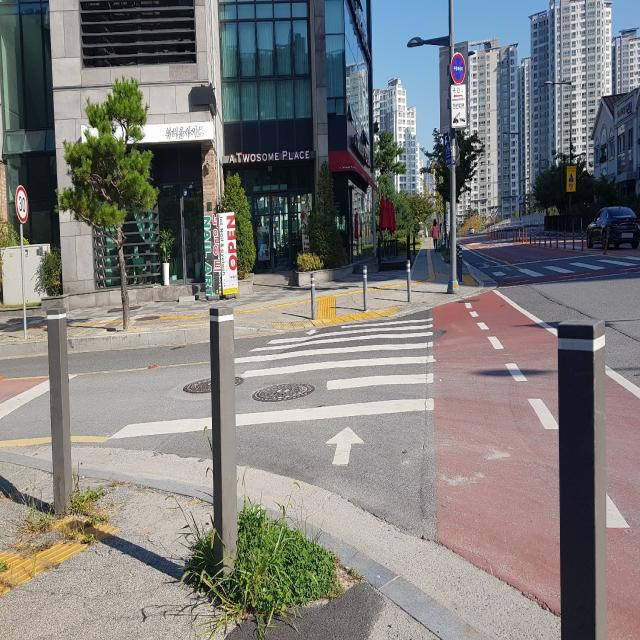횡단보도: (106, 316, 437, 468)
